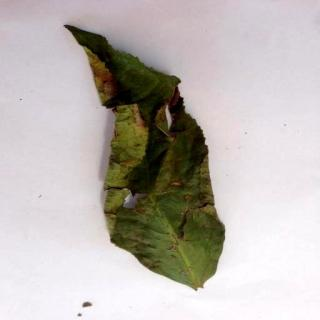Algal Leaf: (64, 23, 228, 292)
